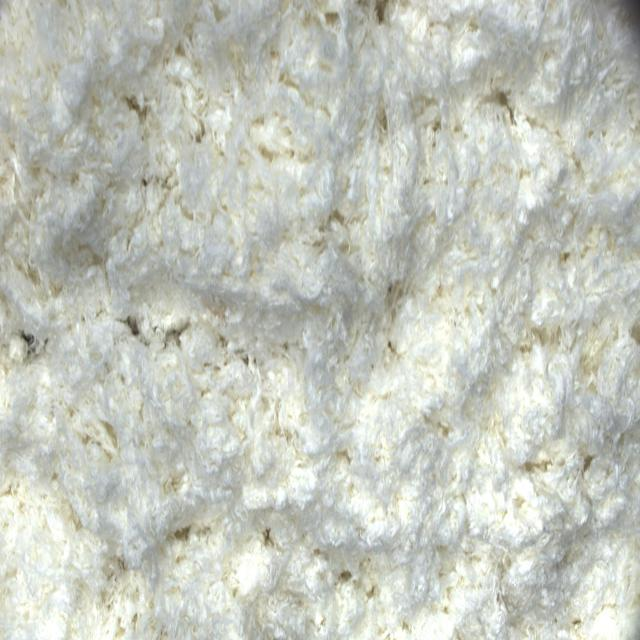dust: (119, 307, 153, 343), (21, 324, 43, 360), (178, 523, 192, 550)
